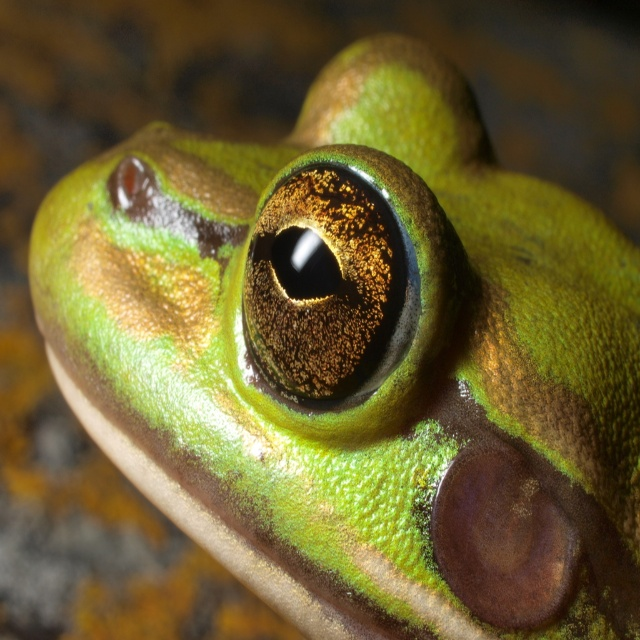Frog: (24, 30, 640, 639)
